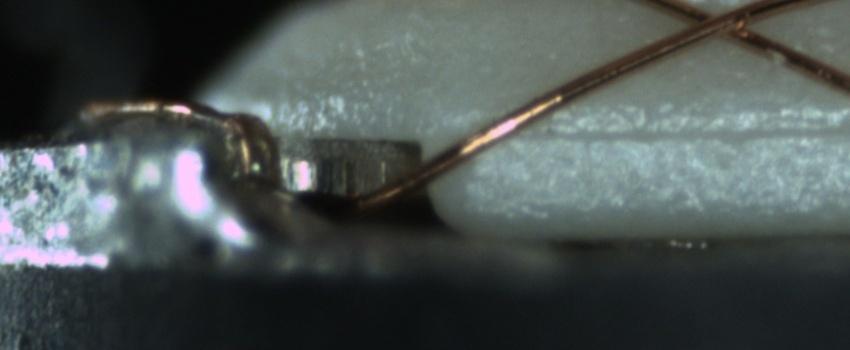CL: (673, 3, 776, 45)
DL: (510, 102, 849, 170)
TE: (69, 94, 285, 189)
